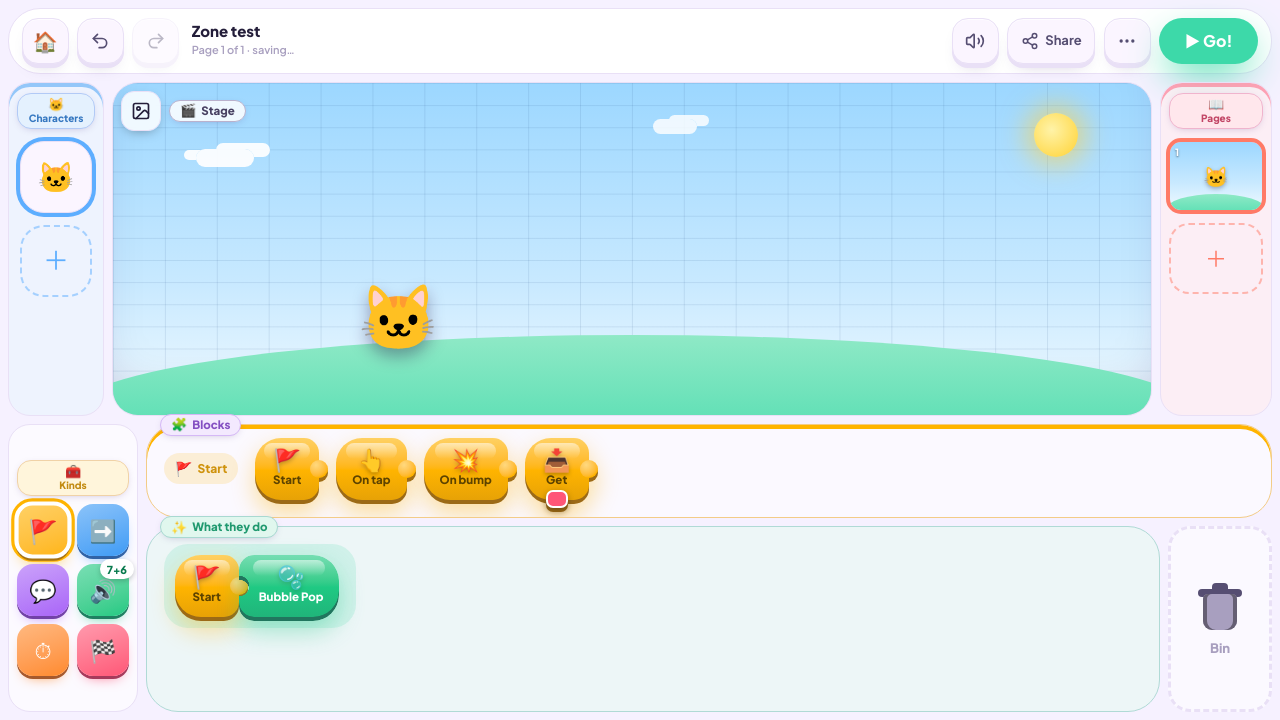
BlocksStudioPage zone labels › lets a child choose one of six picture sounds for the program
This screenshot has width=1280, height=720.
Click the button with test id "block-play_sound": (289, 586) [239,555,340,617]
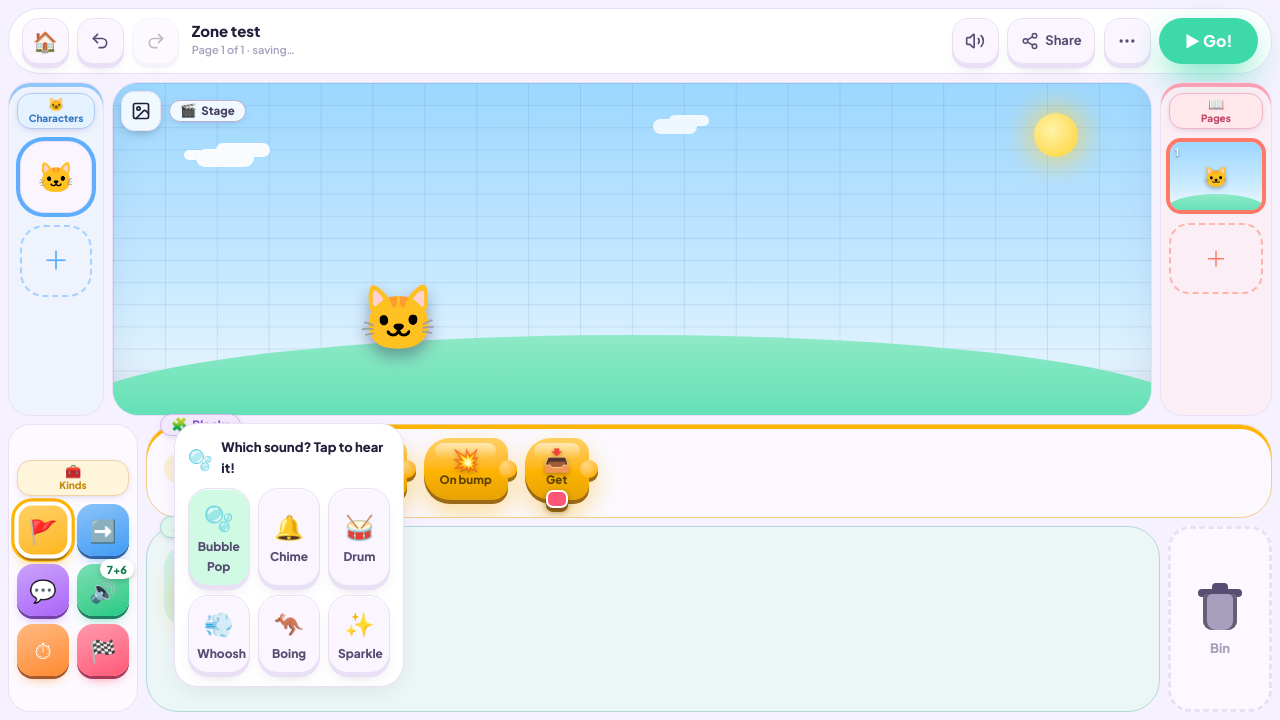
Click the button with test id "sound-choice-6": (359, 634) [328,595,390,673]
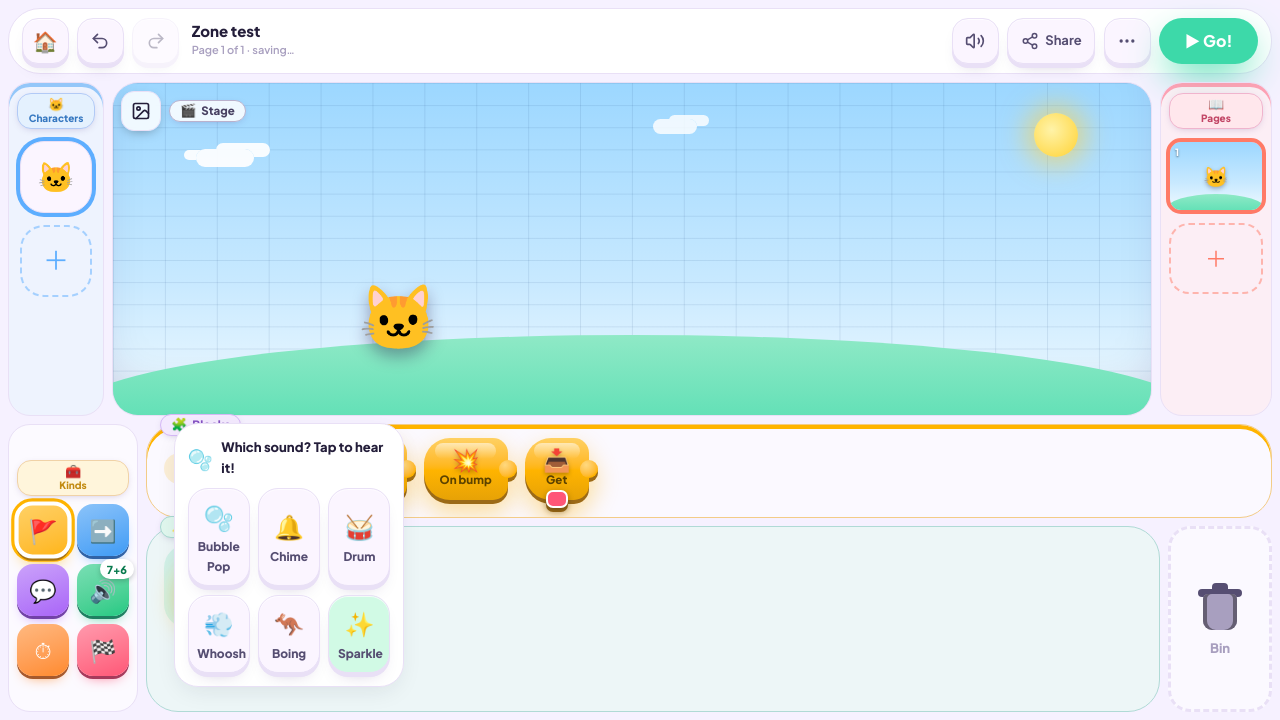
Result: the button with test id "block-play_sound" reads "✨ Sparkle" at [239,555,318,617]
